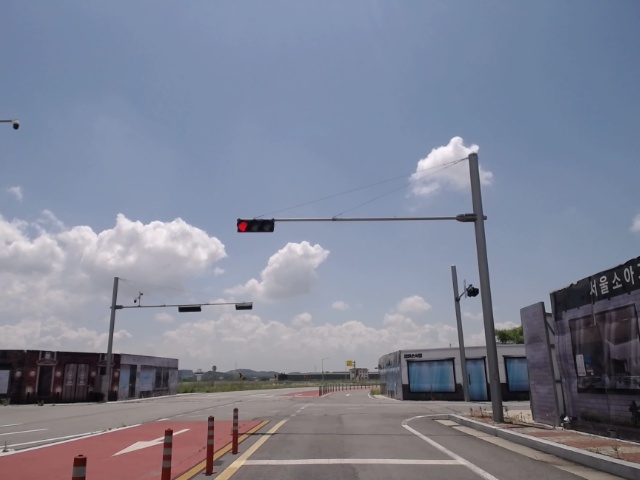red_3: (235, 216, 278, 233)
